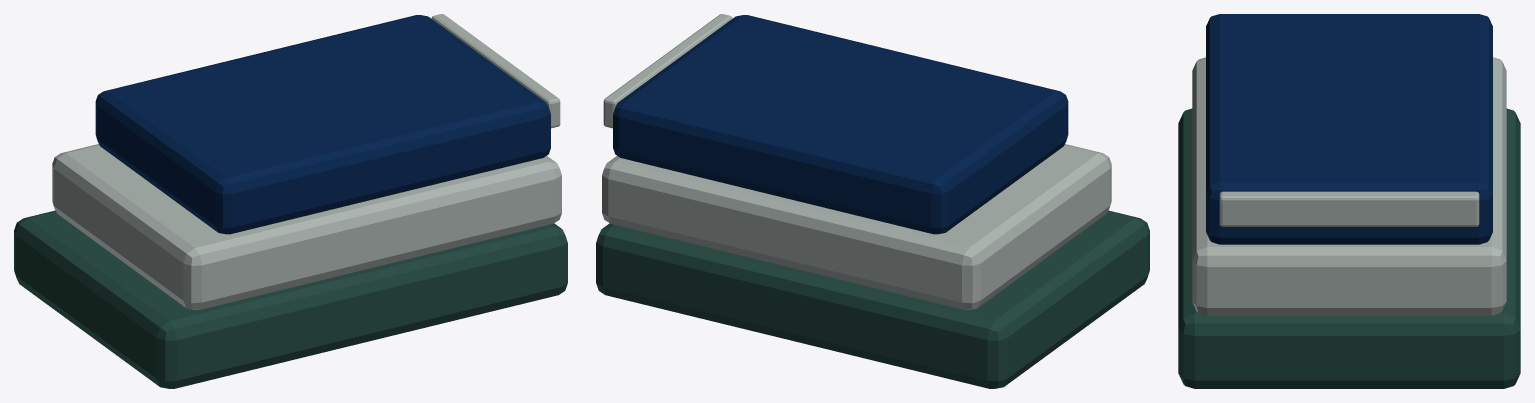
Rendered from BathroomTowel.fbx.
The picture shows the model from 3 angles, left to right: view 1: azimuth 30°, elevation 25°; view 2: azimuth 150°, elevation 25°; view 3: azimuth 270°, elevation 25°; orthographic projection. The views are drawn at different scales.
Parts seen in each view (by area): view 1: BathroomTowel; view 2: BathroomTowel; view 3: BathroomTowel.
Part boxes in pixels (x1,y1,x2,y2): BathroomTowel: [14, 14, 567, 388]; BathroomTowel: [596, 14, 1149, 388]; BathroomTowel: [1178, 14, 1520, 388].
Size of the model in its own units: 38.6 by 25 by 16.5.
